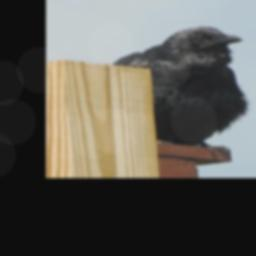Crow: (114, 25, 252, 150)
